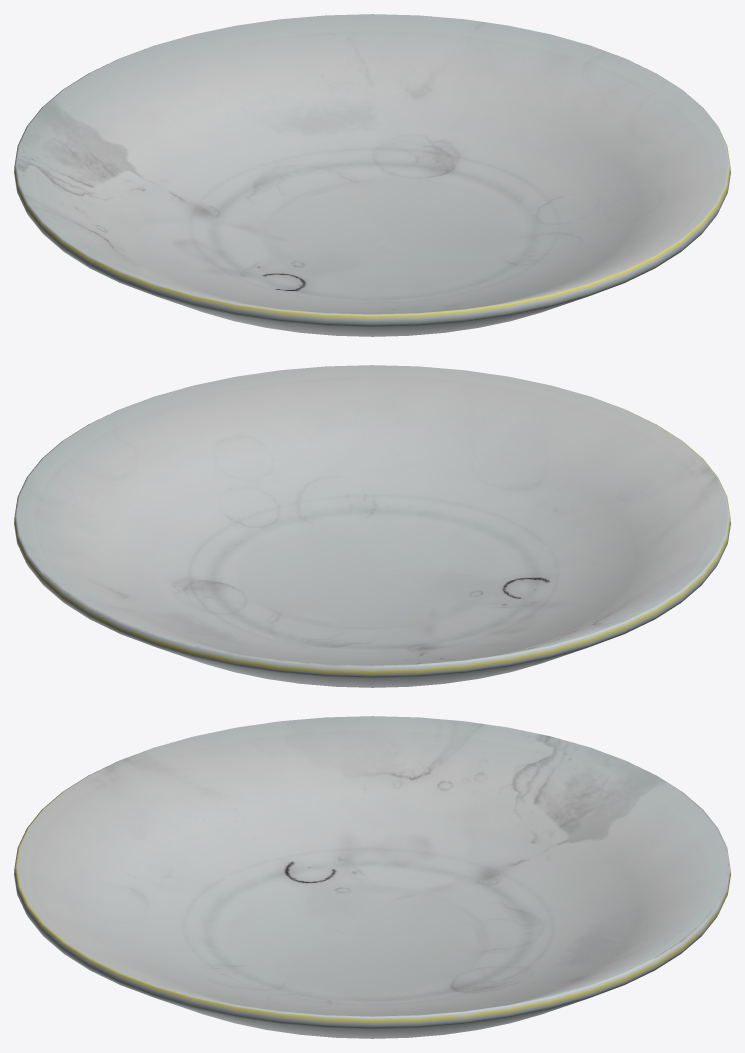
Rendered from SM_Saucer.fbx.
The picture shows the model from 3 angles, top to bottom: view 1: azimuth 30°, elevation 25°; view 2: azimuth 150°, elevation 25°; view 3: azimuth 270°, elevation 25°; orthographic projection.
Parts seen in each view (by area): view 1: SM_Saucer; view 2: SM_Saucer; view 3: SM_Saucer.
Boxes of the visible parts, left/top/right/bottom form: SM_Saucer: left=14, top=14, right=730, bottom=336; SM_Saucer: left=14, top=365, right=730, bottom=687; SM_Saucer: left=14, top=716, right=730, bottom=1038.
Bounding box in the file's own units: 18.97 × 2.85 × 18.97.
1 material, 1 textured.
